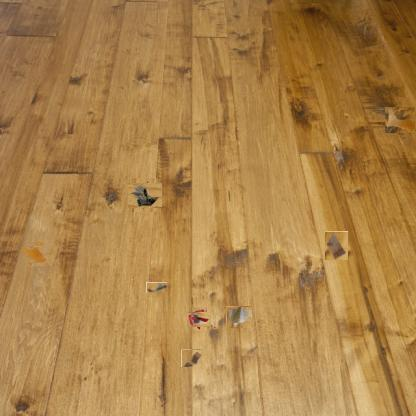dirty: (130, 180, 160, 210), (324, 231, 348, 260), (226, 306, 252, 328), (189, 310, 209, 330), (181, 349, 202, 367), (146, 282, 167, 293)
liquid: (385, 107, 415, 133), (25, 243, 46, 265)
